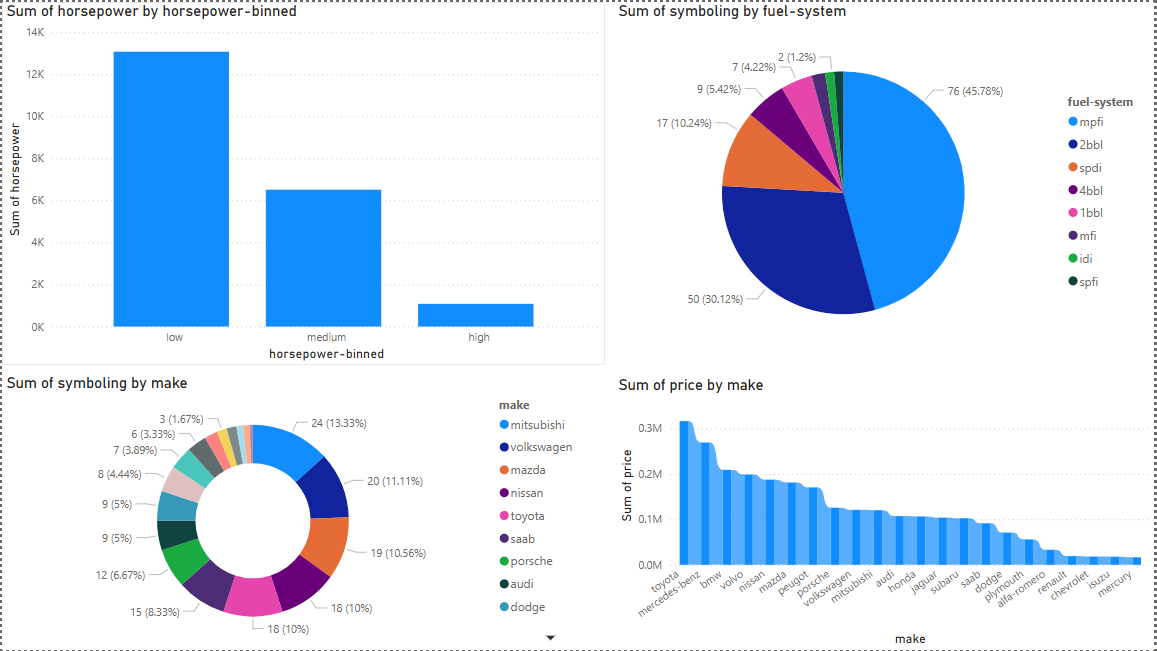

Layout of this report page (visuals, bound fields, positions):
{"tool":"powerbi","page":{"name":"Page 1","canvas":[1280,720],"ordinal":0},"visuals":[{"type":"clusteredColumnChart","fields":{"Y":["Sum(cleaned_data.horsepower)"],"Category":["cleaned_data.horsepower-binned"]},"box":[0,0,670,403.3],"z":0},{"type":"donutChart","fields":{"Y":["Sum(cleaned_data.symboling)"],"Category":["cleaned_data.make"]},"box":[0,414,670,306],"z":1000},{"type":"pieChart","fields":{"Y":["Sum(cleaned_data.symboling)"],"Category":["cleaned_data.fuel-system"]},"box":[680,0,600,404],"z":2000},{"type":"ribbonChart","fields":{"Category":["cleaned_data.make"],"Y":["Sum(cleaned_data.price)"]},"box":[680,415,600,305],"z":3000}]}

Visuals, with their boxes in screenshot pixels (x1, y1, x2, y2), scaled from the page's 1280x720 canvas onto the 1157x651 screenshot:
clusteredColumnChart - Sum(cleaned_data.horsepower) x cleaned_data.horsepower-binned: (0, 0, 606, 365)
donutChart - Sum(cleaned_data.symboling) x cleaned_data.make: (0, 374, 606, 650)
pieChart - Sum(cleaned_data.symboling) x cleaned_data.fuel-system: (615, 0, 1156, 365)
ribbonChart - cleaned_data.make x Sum(cleaned_data.price): (615, 375, 1156, 650)
